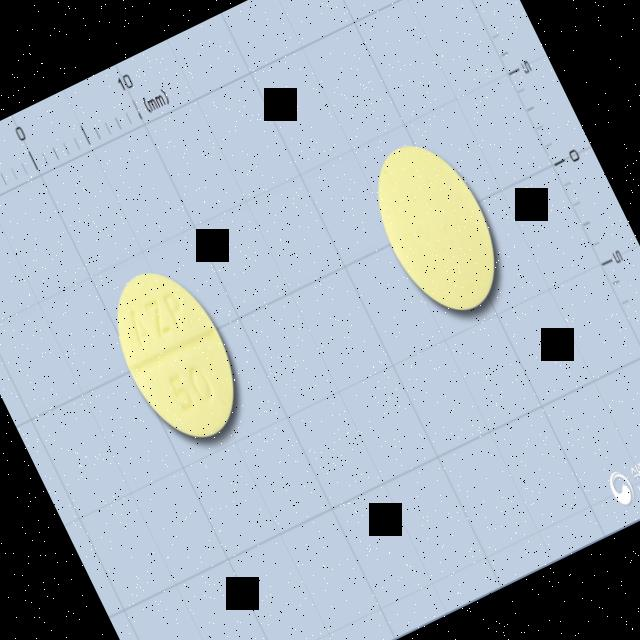Teva Azathioprine Tab: (94, 255, 258, 456)
